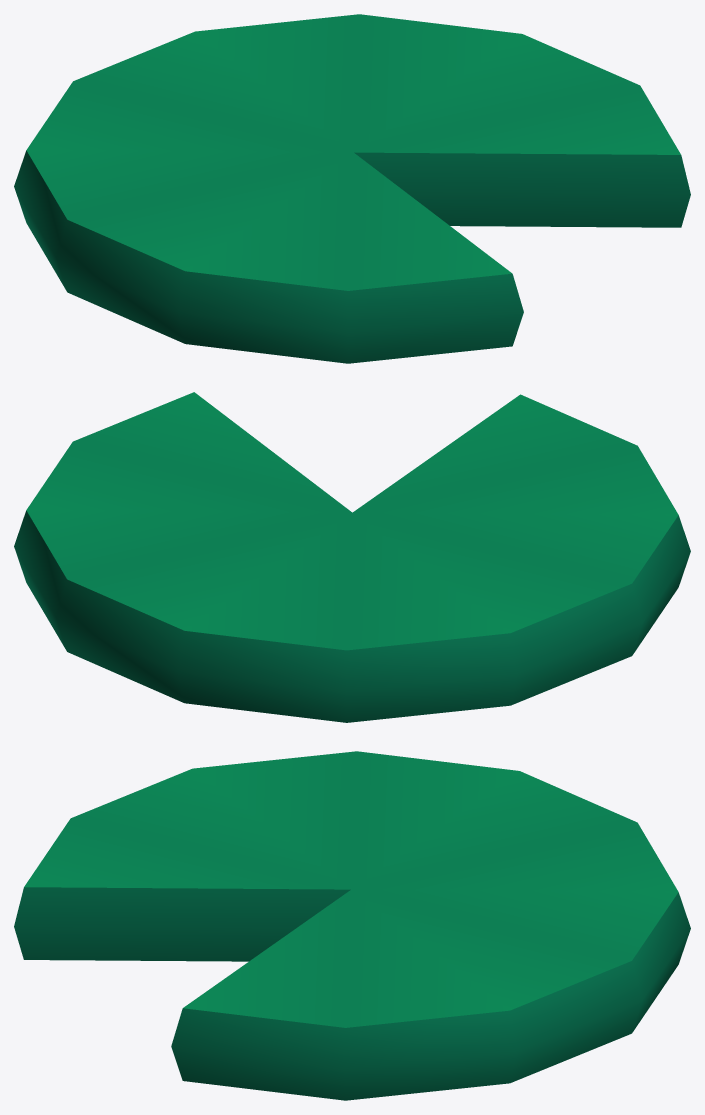
Rendered from waterlily_A.glb.
3 views of the same model, one above another, from view 1: azimuth 30°, elevation 25°; view 2: azimuth 150°, elevation 25°; view 3: azimuth 270°, elevation 25° (orthographic).
Visible parts, largest first — view 1: waterlily_A; view 2: waterlily_A; view 3: waterlily_A.
Part boxes in pixels (box(x1,y1,x2,y2)): waterlily_A: box(14, 14, 690, 363); waterlily_A: box(14, 392, 690, 722); waterlily_A: box(14, 751, 690, 1100).
Bounding box in the file's own units: 0.1451 × 0.0171 × 0.1446.
Materials: 1 (1 with a texture image).
